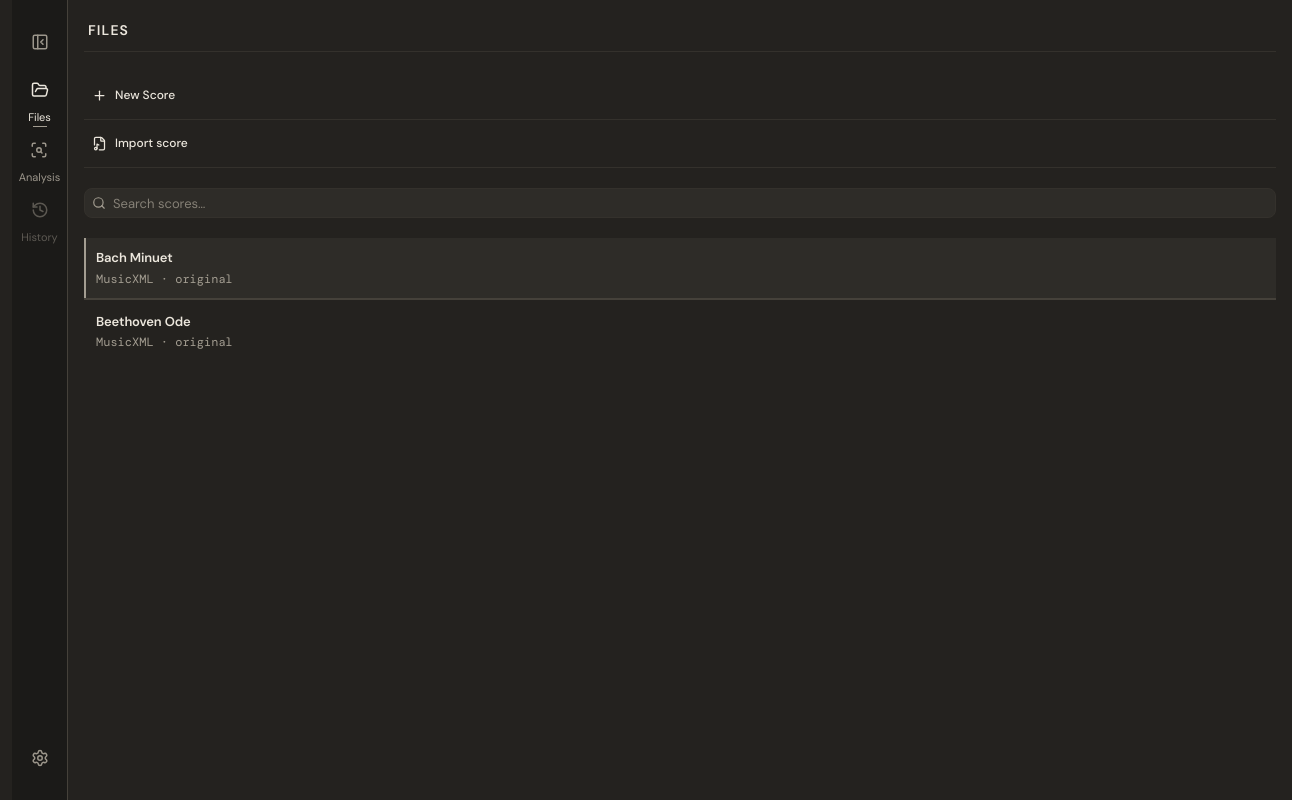
it: FileRail Component › opens the Export submenu with MusicXML and PDF active
Right-click the button with aria-label "Open Bach Minuet": (134, 258) [84,238,1276,298]
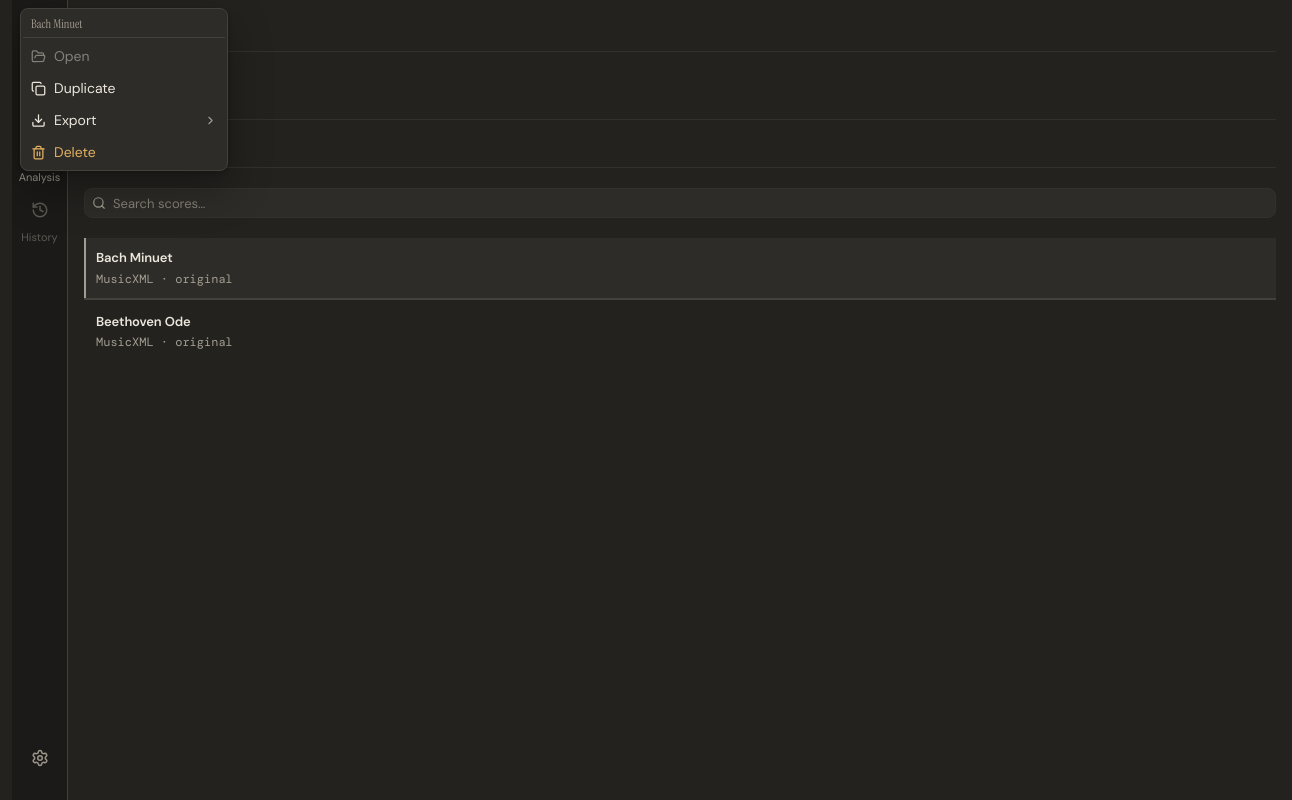
Click the menu item "Export": (124, 120) [23,104,225,136]
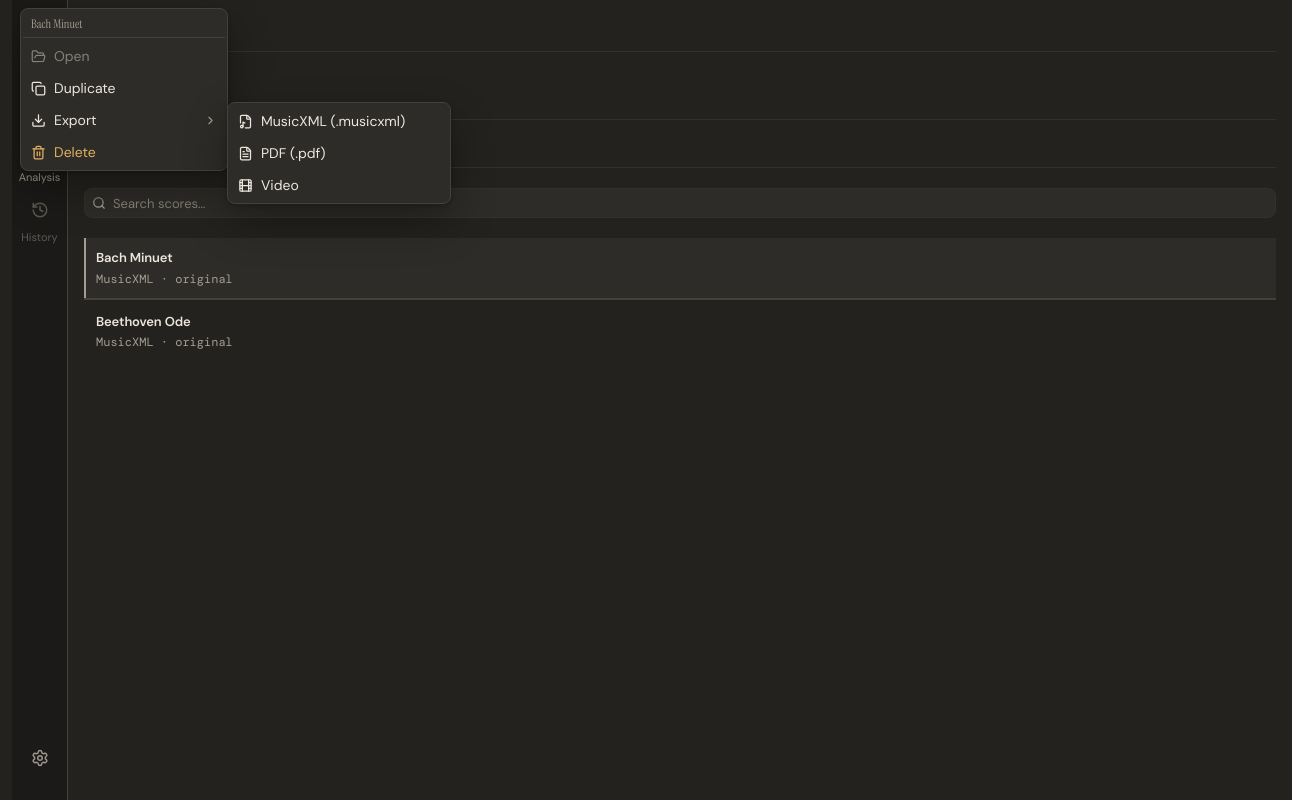
Expected: the menu named "Export options" is shown, [227,102,451,204]
Expected: the menu item "MusicXML (.musicxml)" is enabled, [230,105,448,137]
Expected: the menu item "PDF (.pdf)" is enabled, [230,137,448,169]
